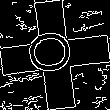O_E: (27, 31, 83, 79)
